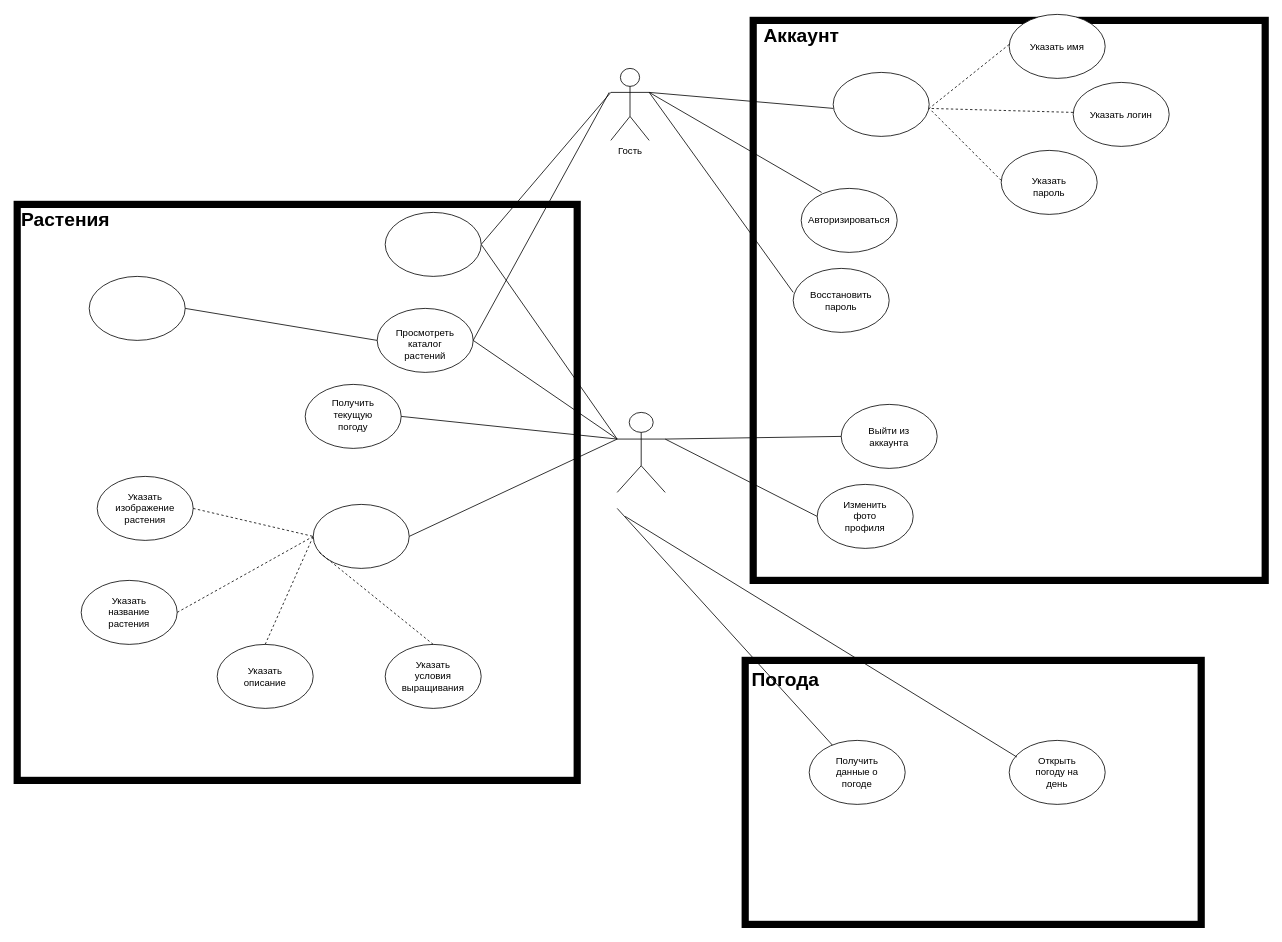
Image size: 1282x942. Some labels were removed from this diagram. Here are the shapes that lost their labels. From the top down, the centre of each, then its label:
At point 880,104: "Зарегестрироваться".
At point 432,244: "Распознать растение".
At point 136,308: "Открыть страницу растения".
At point 640,452: "Авторизованый пользователь".
At point 360,536: "Добавить растение в коллекцию".
